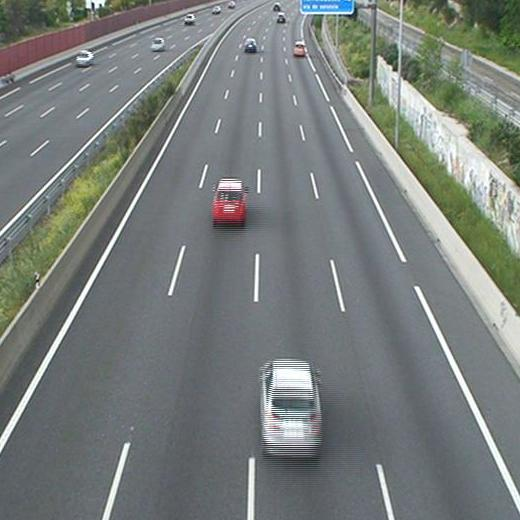car: (261, 357, 322, 461), (210, 178, 248, 228), (244, 37, 258, 53), (293, 42, 306, 57)
